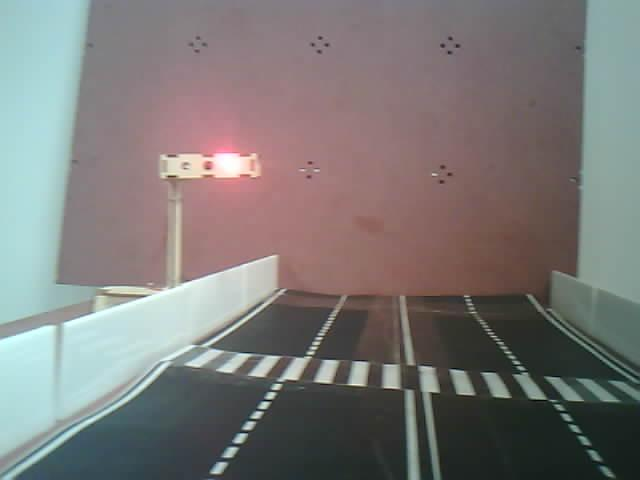crosswalk: (153, 341, 639, 404)
red: (142, 139, 275, 242)
